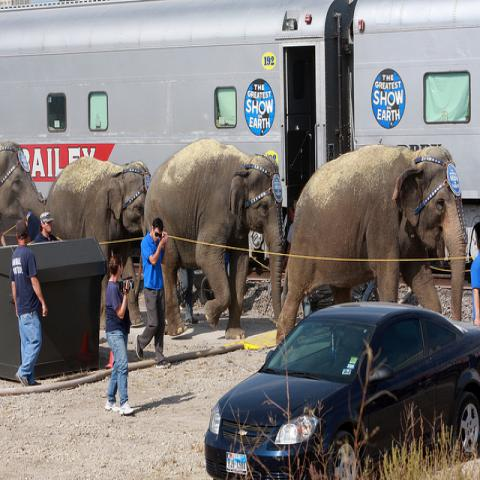car: (204, 300, 479, 479)
